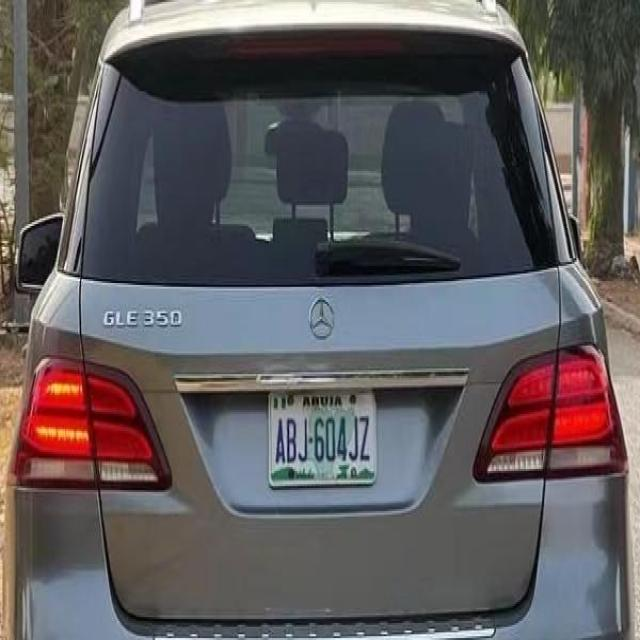Nigerian License Plate - vdataset benjamin-daria: (266, 380, 381, 494)
